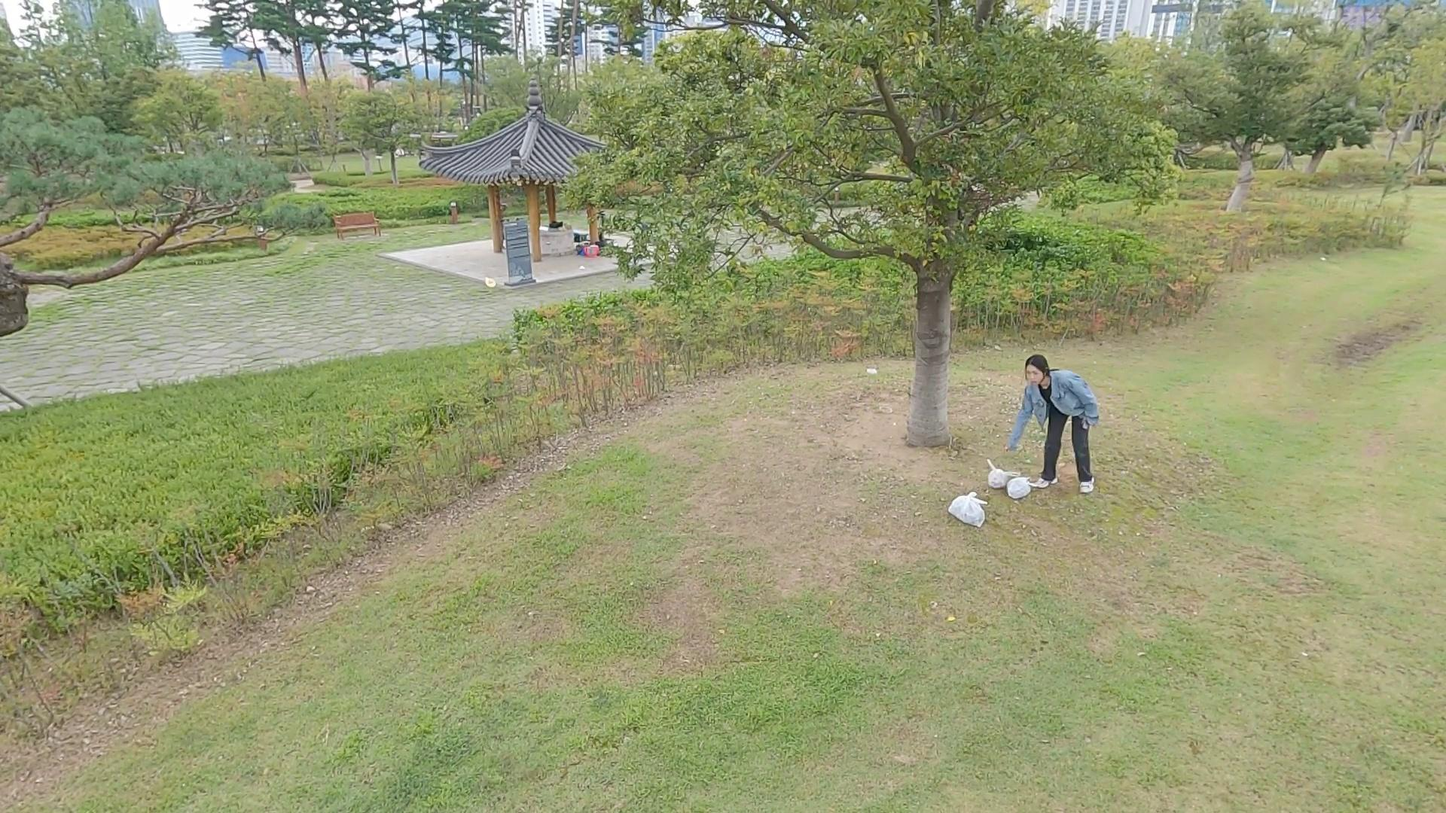person: (1009, 352, 1102, 495)
trash: (947, 490, 989, 532), (987, 456, 1019, 494), (1002, 479, 1038, 501)
